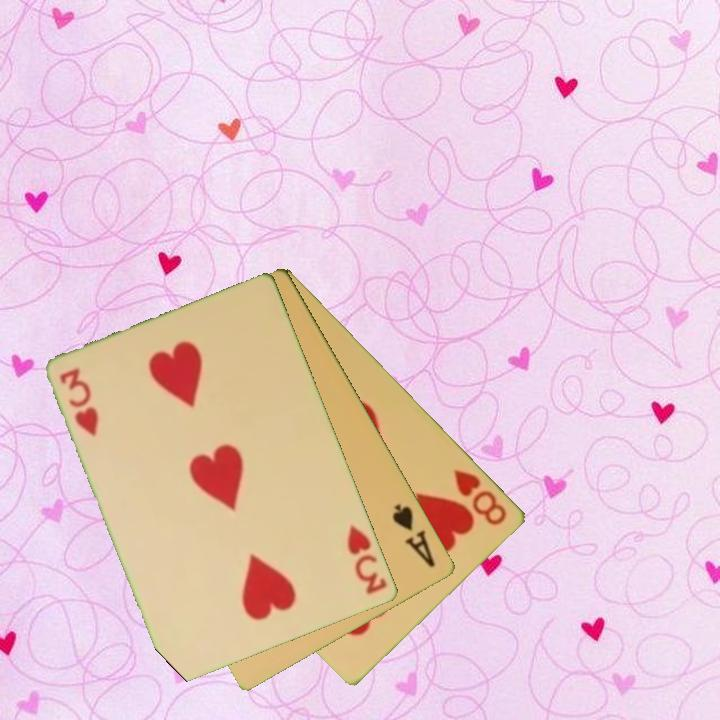3h: (344, 521, 391, 598), (56, 364, 102, 439)
8h: (451, 466, 510, 529)
As: (389, 500, 439, 571)
